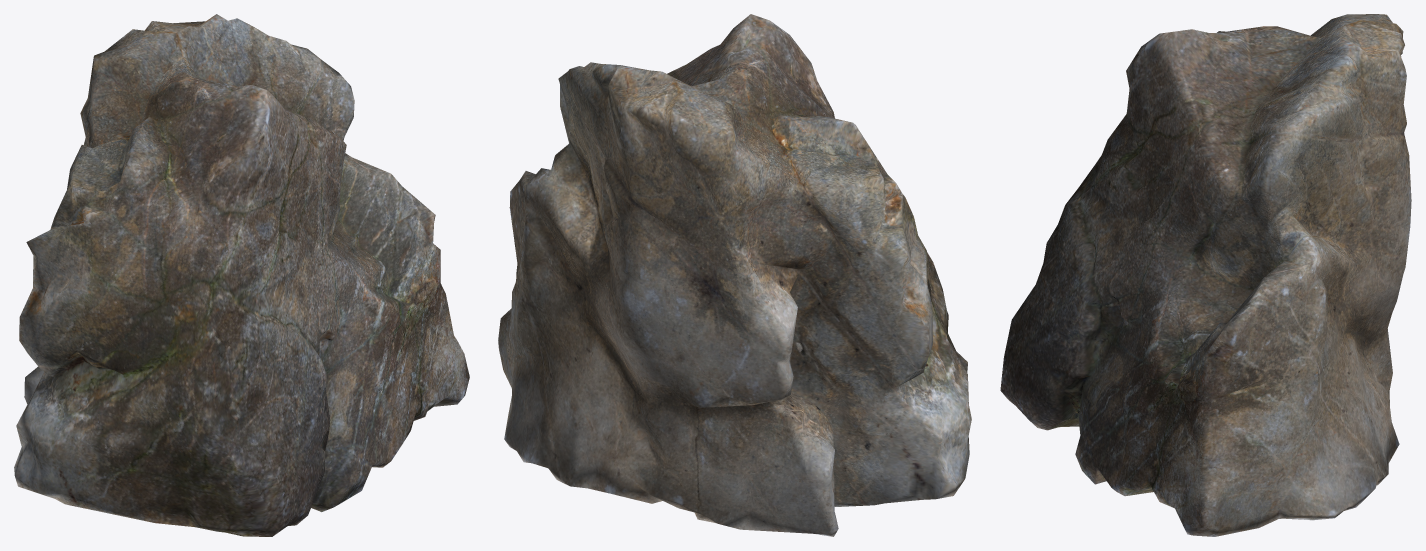
File: Big Rock.glb
3 views of the same model, side by side, from view 1: azimuth 30°, elevation 25°; view 2: azimuth 150°, elevation 25°; view 3: azimuth 270°, elevation 25° (orthographic). The views are drawn at different scales.
Visible parts, largest first — view 1: Object_2; view 2: Object_2; view 3: Object_2.
Boxes of the visible parts, left/top/right/bottom form: Object_2: left=14, top=14, right=469, bottom=536; Object_2: left=498, top=14, right=971, bottom=536; Object_2: left=1000, top=14, right=1411, bottom=536.
Size of the model in its own units: 29.84 by 26.57 by 22.44.
1 material, 1 textured.
